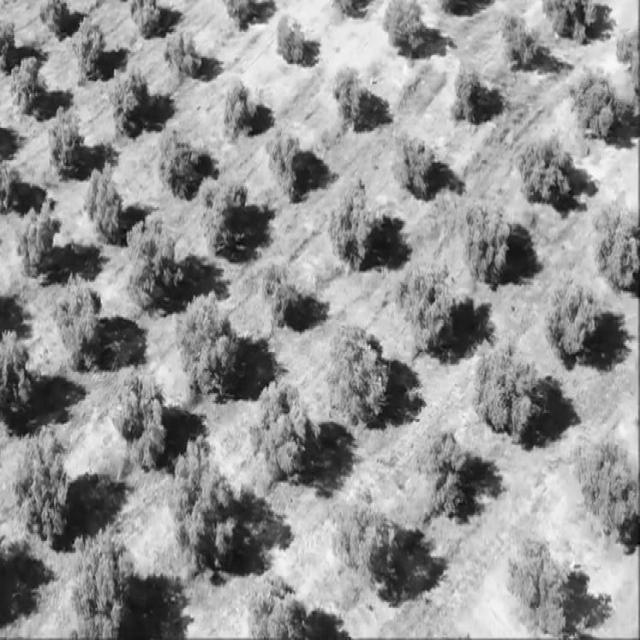trees: (163, 436, 249, 561), (8, 423, 88, 537), (70, 522, 146, 640), (179, 282, 250, 392), (331, 484, 404, 583), (575, 431, 640, 542), (407, 420, 479, 520), (253, 371, 319, 478), (508, 531, 574, 633), (119, 210, 185, 310), (472, 339, 540, 431), (332, 324, 395, 416), (52, 269, 108, 371), (328, 173, 386, 270), (546, 272, 603, 363), (462, 190, 518, 282), (404, 260, 462, 346), (198, 174, 256, 260), (118, 365, 170, 460), (518, 126, 576, 205), (12, 192, 65, 277), (81, 160, 131, 248), (595, 191, 640, 288), (248, 568, 308, 640), (152, 120, 206, 199), (570, 59, 622, 133), (377, 1, 435, 66), (44, 104, 89, 186), (394, 122, 441, 197), (107, 64, 156, 134), (498, 4, 547, 71), (258, 261, 308, 326), (265, 126, 312, 194), (219, 74, 262, 138), (450, 58, 493, 120), (330, 64, 372, 124), (73, 17, 110, 78), (162, 30, 206, 81), (11, 49, 44, 114), (274, 13, 312, 67)
